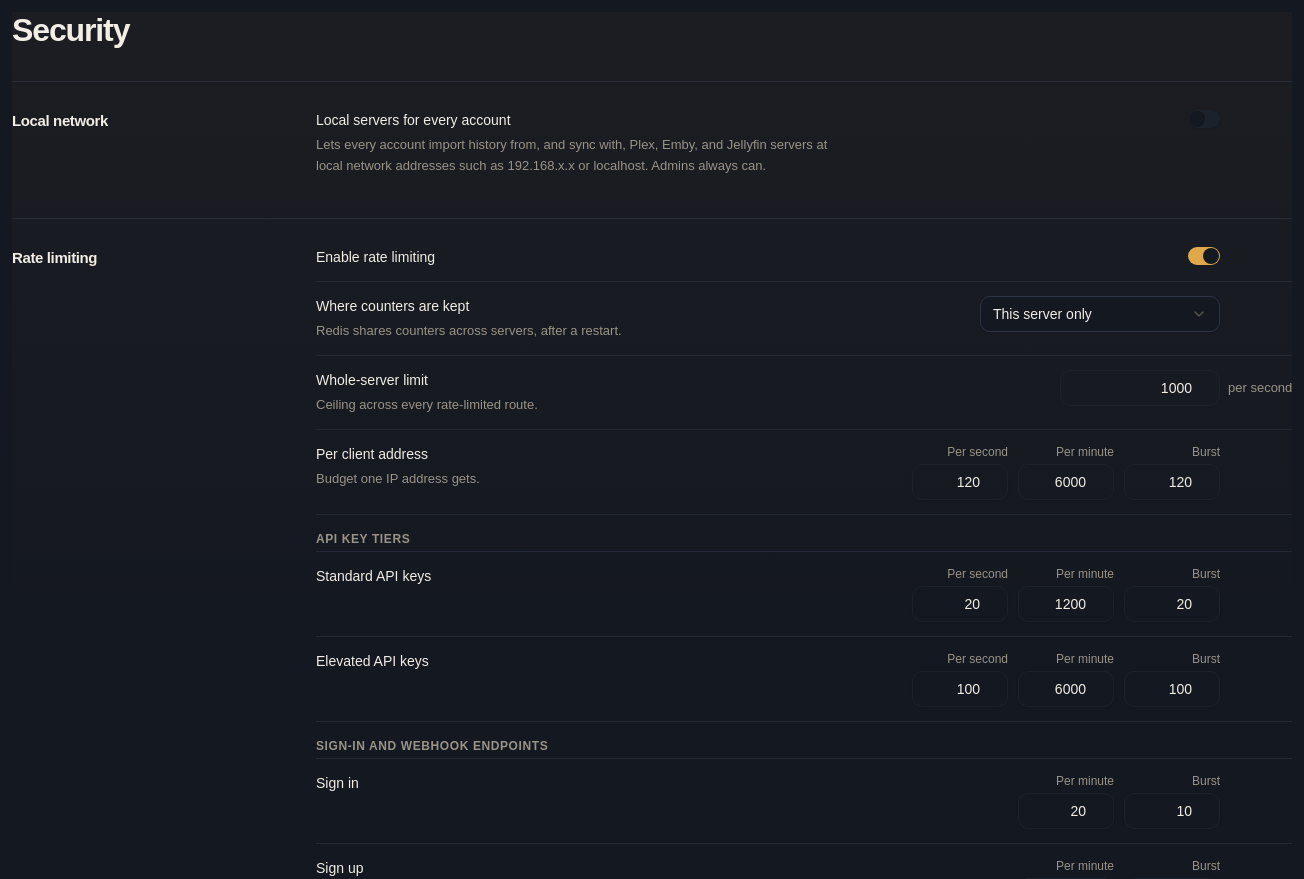
Test case: SecurityAccessSettings › stages an API key tier edit on the shared save bar
Type "1" into the 2nd number field labelled "Burst" at [1172, 604], box [1124, 586, 1220, 622]
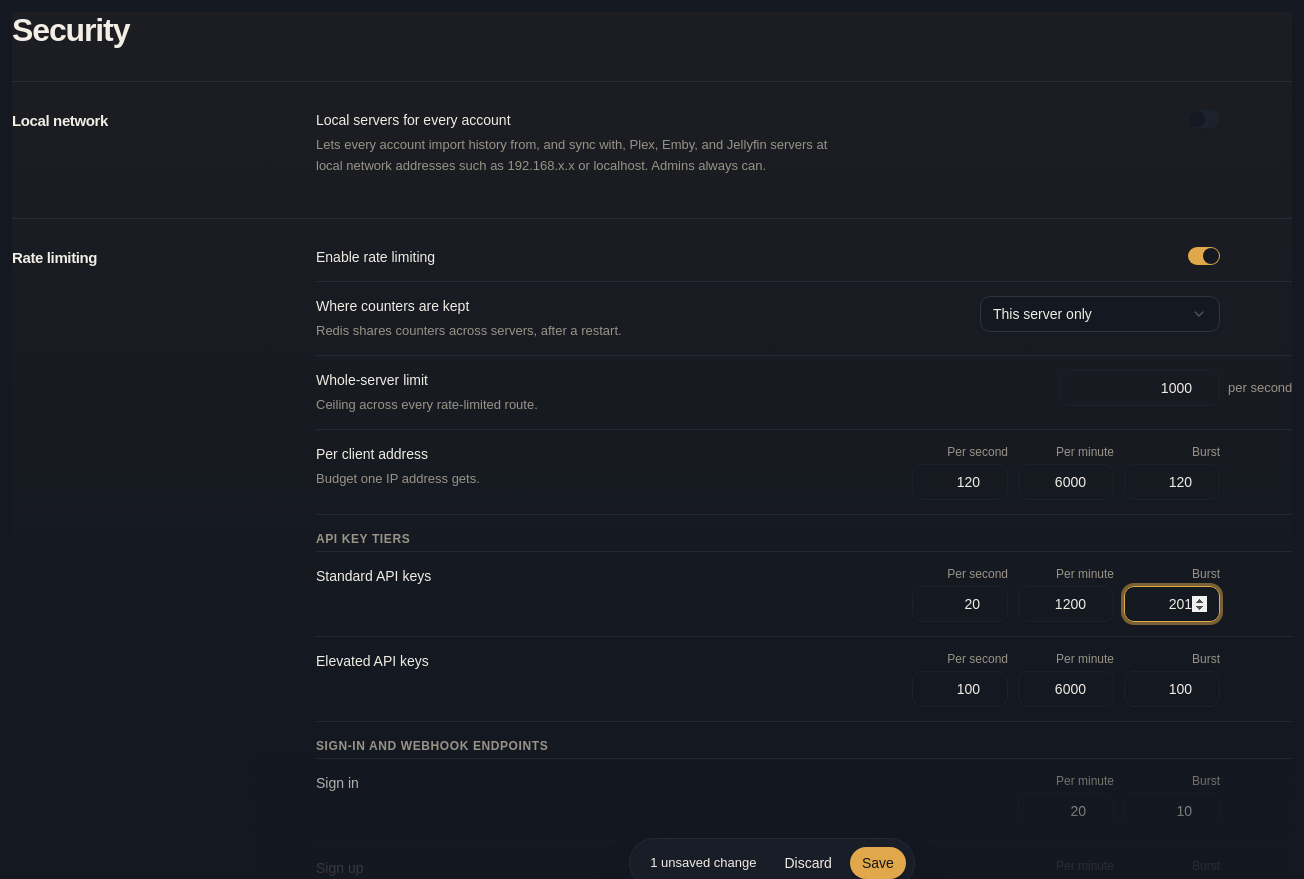
Expected: the text "1 unsaved change" is shown, [650, 853, 756, 873]
